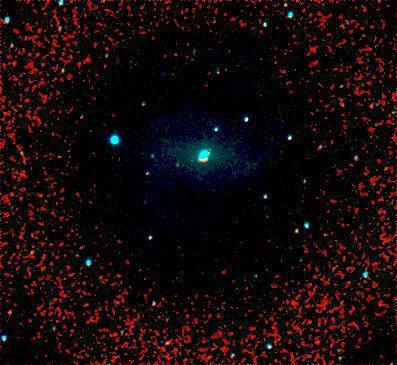star: (188, 125, 218, 155)
